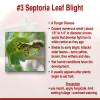Tomato Septoria leaf spot: (7, 39, 44, 67)
